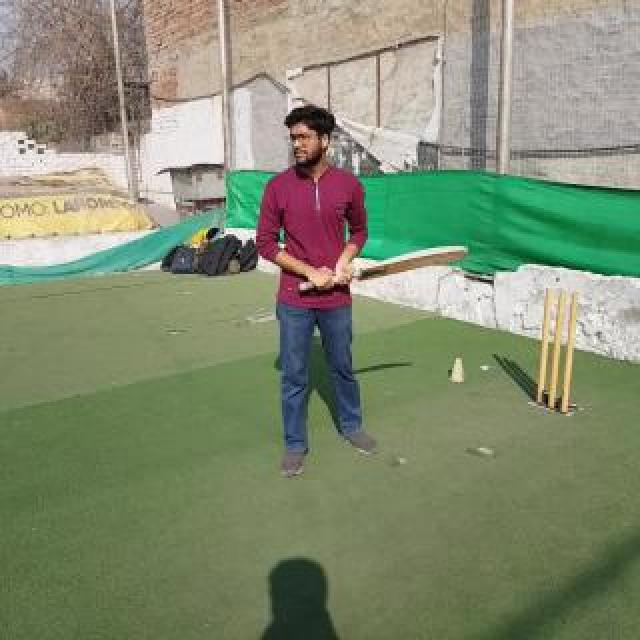bat: (298, 244, 470, 294)
